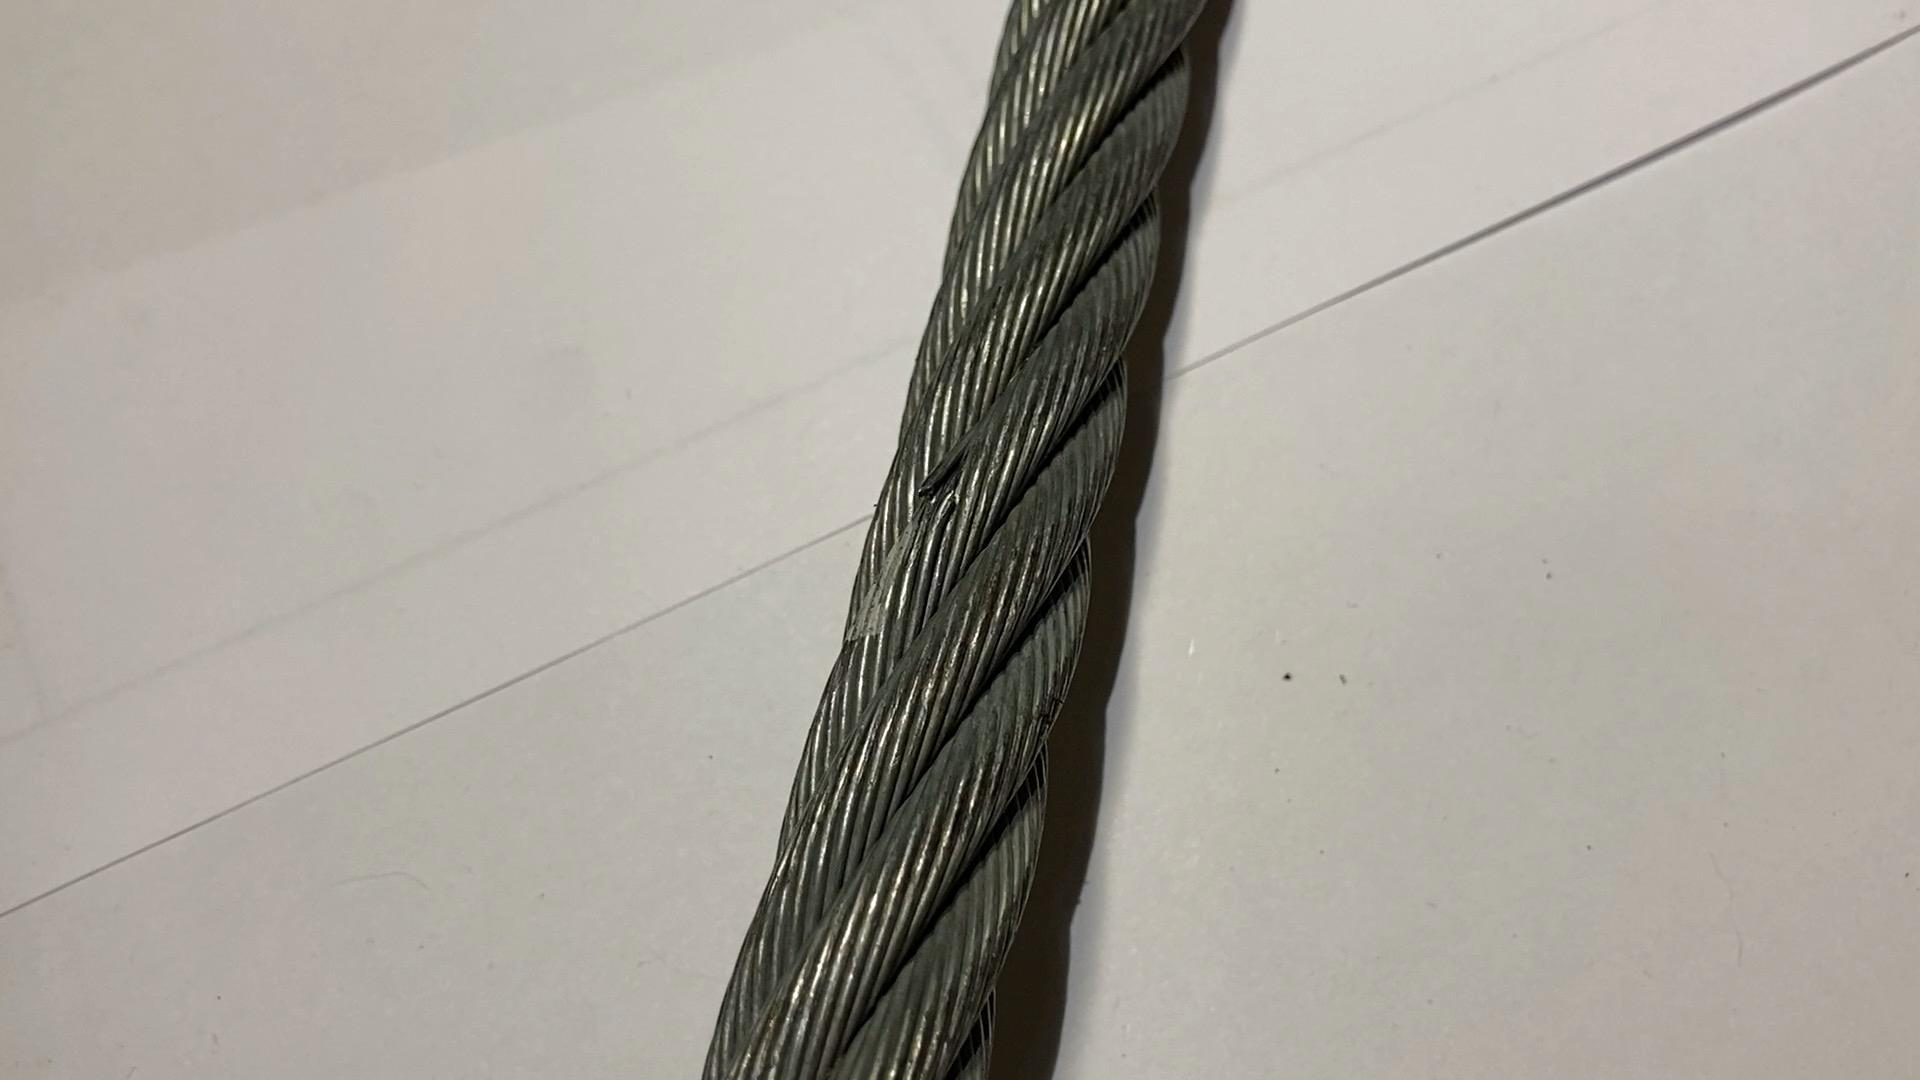break: (903, 448, 977, 520)
